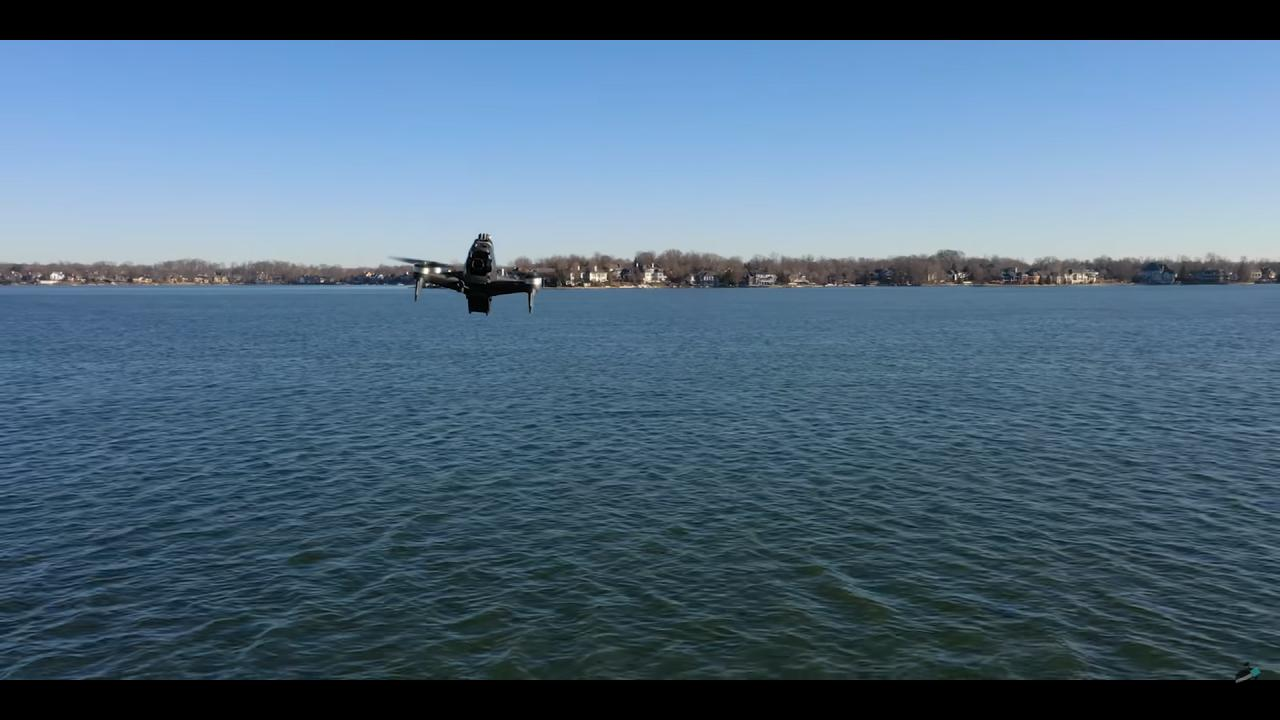Drone: (392, 226, 566, 324)
